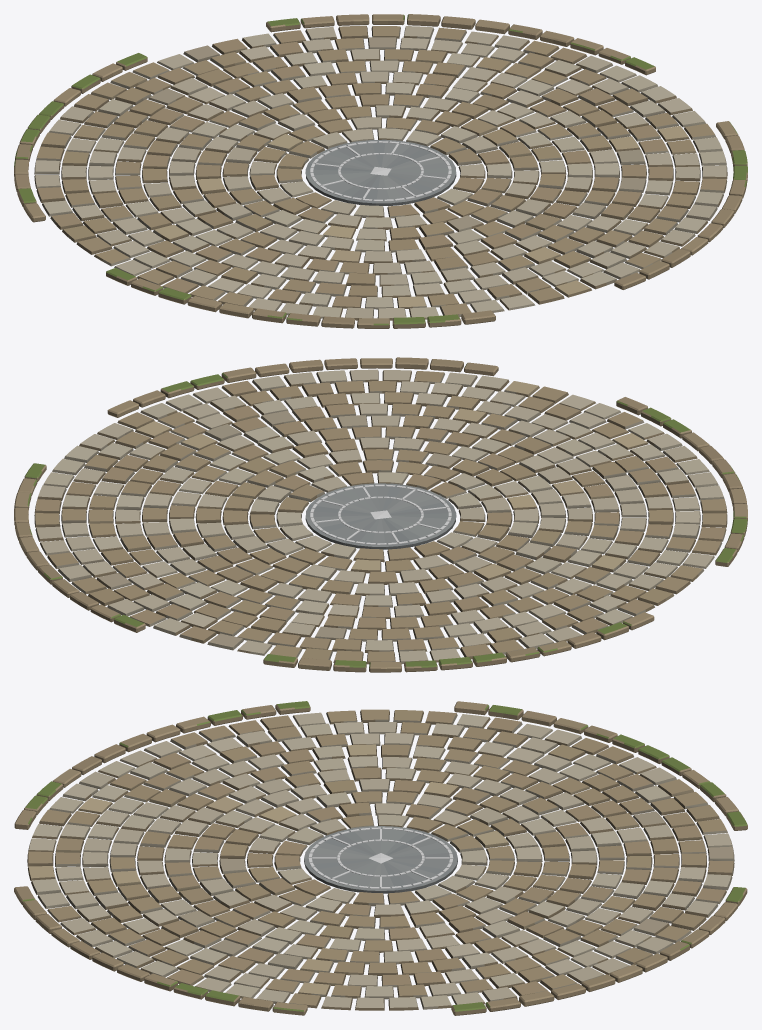
The model's file is Plaza.glb.
3 renders of one model, top to bottom at view 1: azimuth 30°, elevation 25°; view 2: azimuth 150°, elevation 25°; view 3: azimuth 270°, elevation 25°, orthographic. The views are drawn at different scales.
Parts seen in each view (by area): view 1: Paving, Kerb, Inlay; view 2: Paving, Kerb, Inlay; view 3: Paving, Kerb, Inlay.
Boxes of the visible parts, left/top/right/bottom form: Paving: left=34, top=25, right=727, bottom=320; Kerb: left=14, top=14, right=747, bottom=328; Inlay: left=310, top=141, right=451, bottom=201; Paving: left=34, top=369, right=727, bottom=664; Kerb: left=14, top=357, right=747, bottom=672; Inlay: left=310, top=484, right=451, bottom=544; Paving: left=27, top=709, right=734, bottom=1010; Kerb: left=14, top=701, right=747, bottom=1015; Inlay: left=308, top=827, right=453, bottom=888.
Size of the model in its own units: 69.58 by 0.6697 by 69.58.
